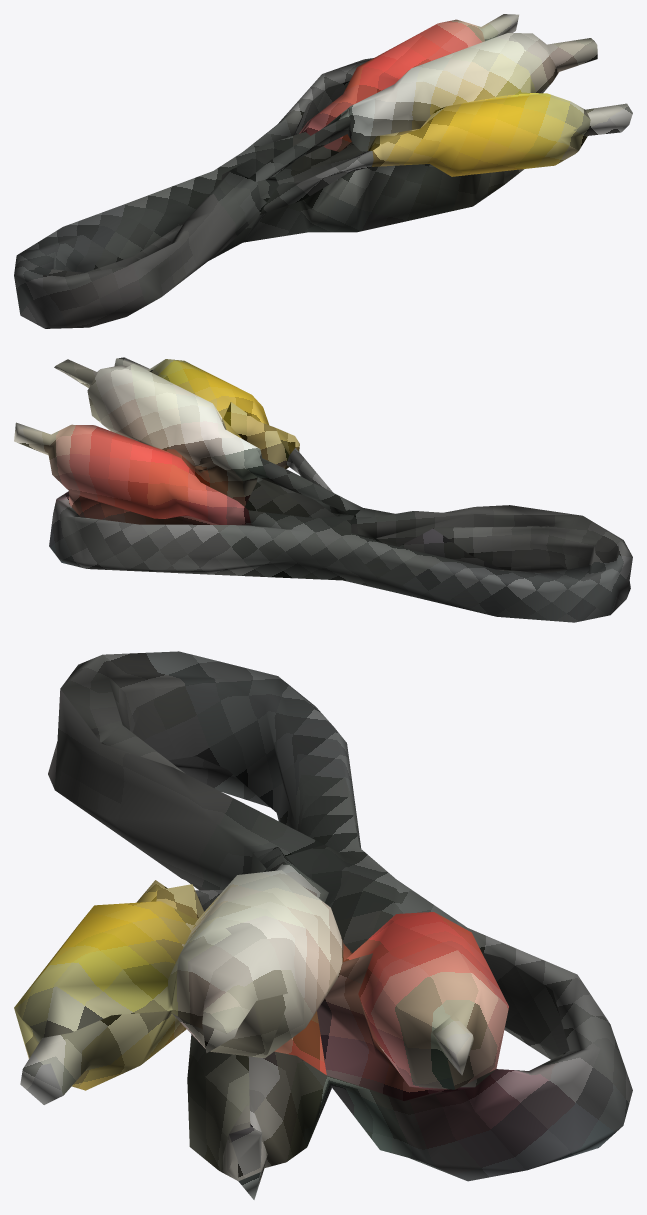
Rendered from GoPro_HERO3_Composite_Cable-low.glb.
The picture shows the model from 3 angles, top to bottom: view 1: azimuth 30°, elevation 25°; view 2: azimuth 150°, elevation 25°; view 3: azimuth 270°, elevation 25°; orthographic projection. The views are drawn at different scales.
Visible parts, largest first — view 1: GoPro_HERO3_Composite_Cable; view 2: GoPro_HERO3_Composite_Cable; view 3: GoPro_HERO3_Composite_Cable.
Boxes of the visible parts, box(x1,y1,x2,y2) form: GoPro_HERO3_Composite_Cable: box(14, 14, 632, 328); GoPro_HERO3_Composite_Cable: box(14, 357, 632, 622); GoPro_HERO3_Composite_Cable: box(14, 651, 632, 1199).
Bounding box in the file's own units: 0.098 × 0.0243 × 0.0478.
Materials: 1 (1 with a texture image).
